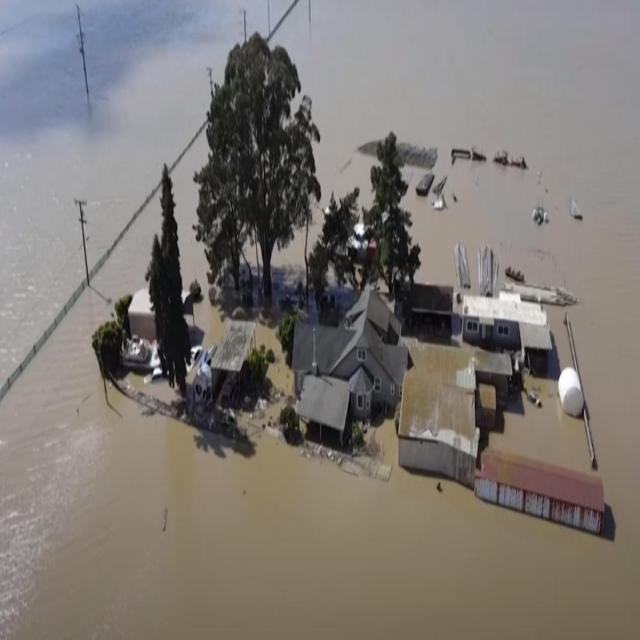flood: (0, 0, 640, 635), (0, 0, 268, 385), (234, 232, 309, 425), (171, 129, 224, 349), (490, 377, 592, 471), (271, 0, 292, 21)
house: (289, 282, 407, 466), (477, 433, 608, 552), (398, 332, 479, 497), (463, 286, 556, 362)
